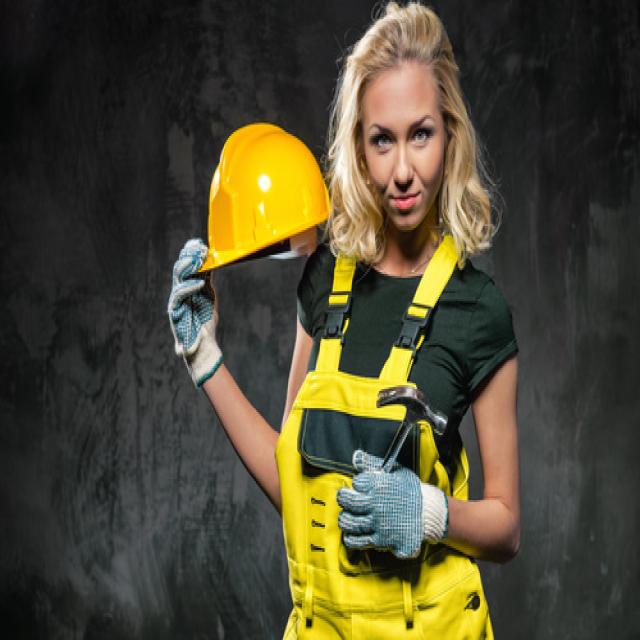Gloves: (329, 438, 462, 574), (148, 233, 235, 393)
Hard Hat: (199, 107, 341, 277)
